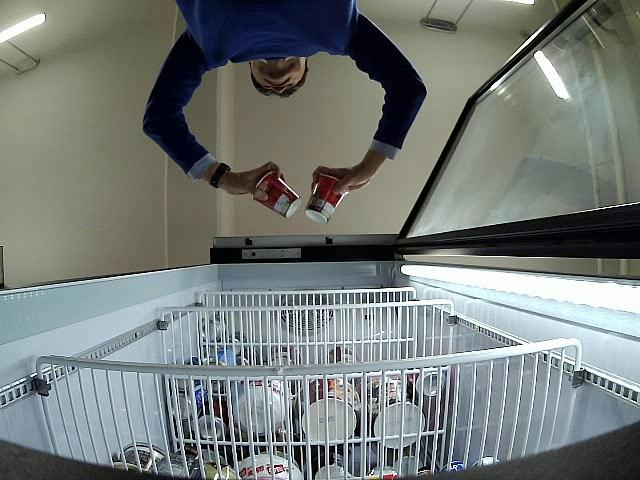00_hand: (312, 160, 385, 196), (231, 160, 285, 202)
02_shinRamen_S: (305, 172, 349, 224), (254, 171, 301, 219)
